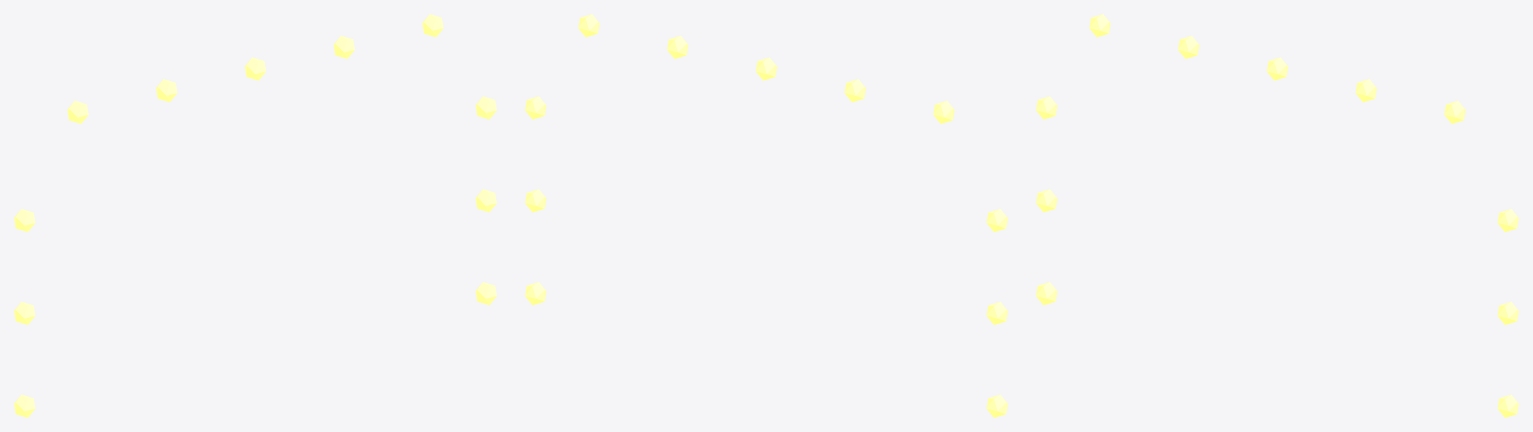
Rendered from bulbs_b.glb.
3 renders of one model, left to right at view 1: azimuth 30°, elevation 25°; view 2: azimuth 150°, elevation 25°; view 3: azimuth 330°, elevation 25°, orthographic.
Parts seen in each view (by area): view 1: B1; view 2: B1; view 3: B1.
Part boxes in pixels (left/top/right/bottom): B1: left=14, top=14, right=496, bottom=417; B1: left=525, top=14, right=1007, bottom=417; B1: left=1036, top=14, right=1518, bottom=417.
Size of the model in its own units: 4.32 by 2.58 by 0.1616.
